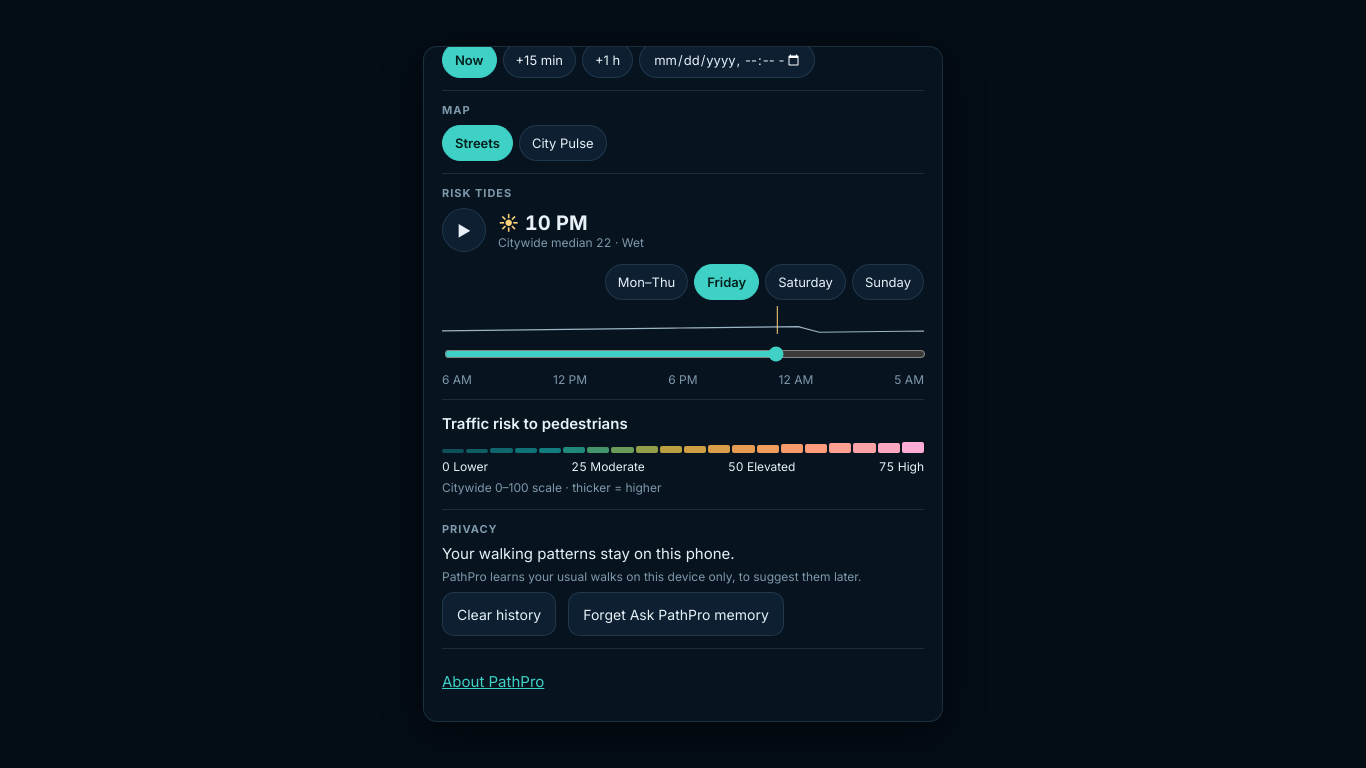
it: OptionsSheet › Ask PathPro memory › keeps the memory and says so when it cannot be deleted right now
(page scrolled)
Click the button "Forget Ask PathPro memory". click: coordinates (676, 614)
box: [568, 592, 784, 636]
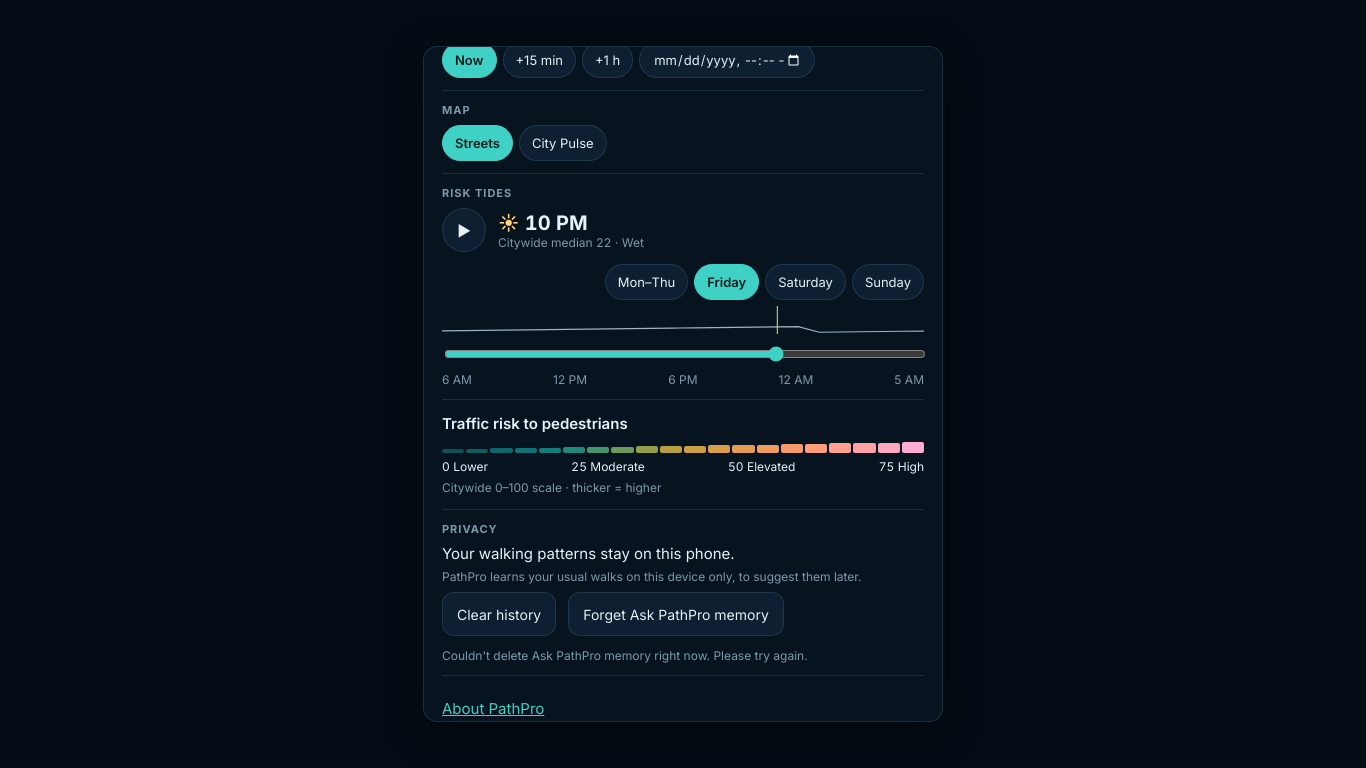
Now the message shows "Couldn't delete", box [442, 648, 808, 663]
